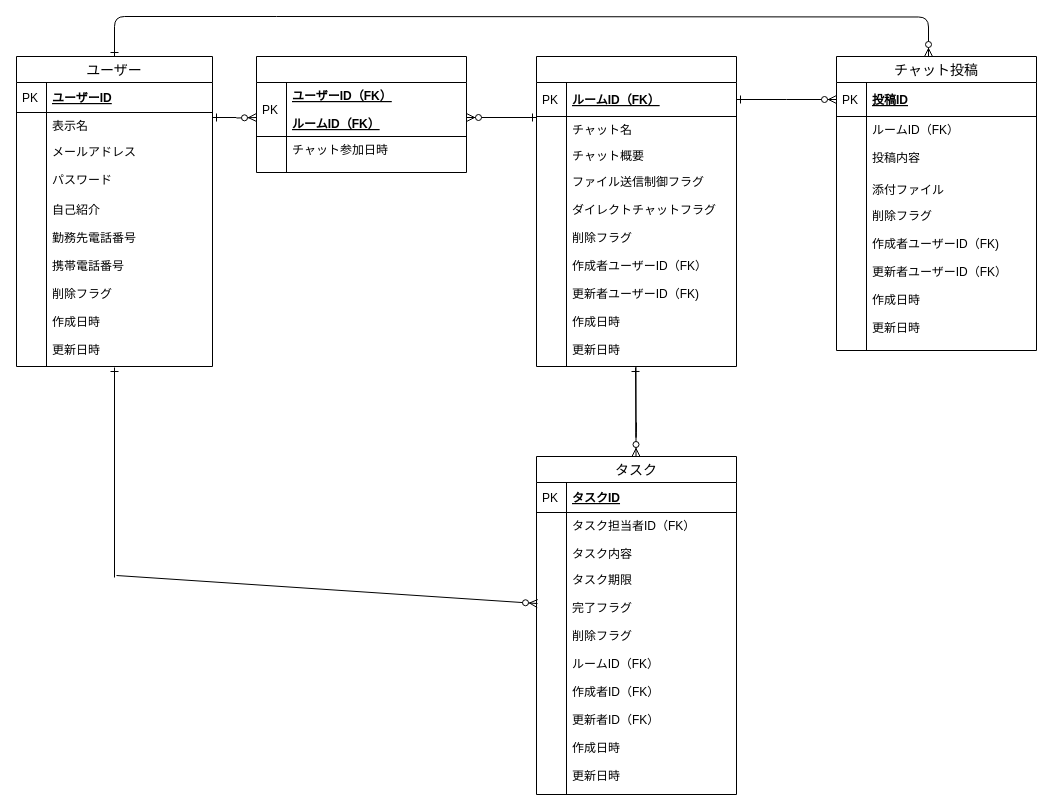
Some shapes in this 1053 by 811 pixel diagram are drawn without their labels. The shapes that lost their labels are listed below. From the top down, each one's box as (x1, y1, x2, y2) in pixels, then its label:
(256, 56, 466, 172): チャット参加ユーザー
(536, 56, 736, 366): チャットルーム
